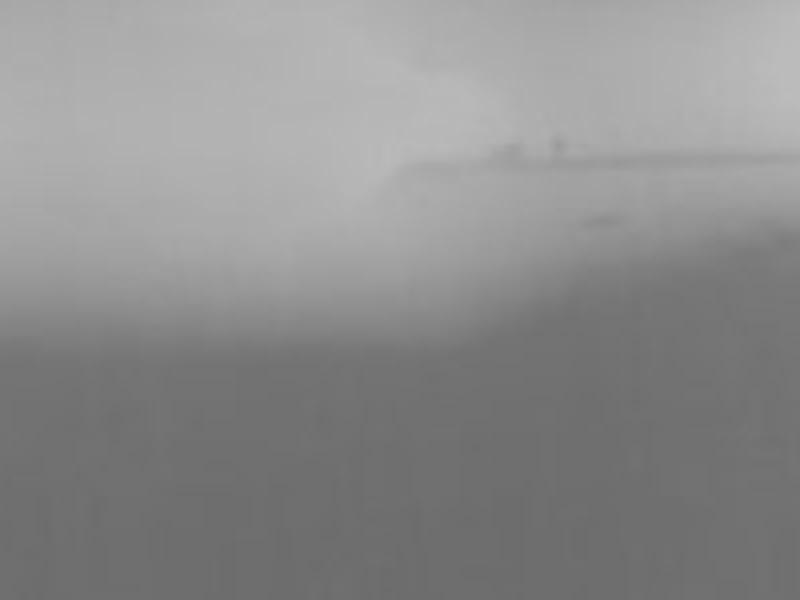defect: (494, 141, 526, 162), (543, 132, 570, 156)
